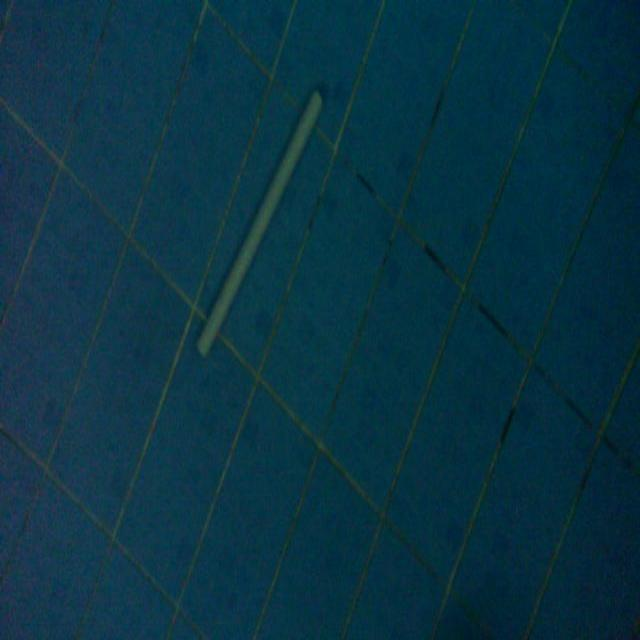Cube: (194, 84, 325, 359)
